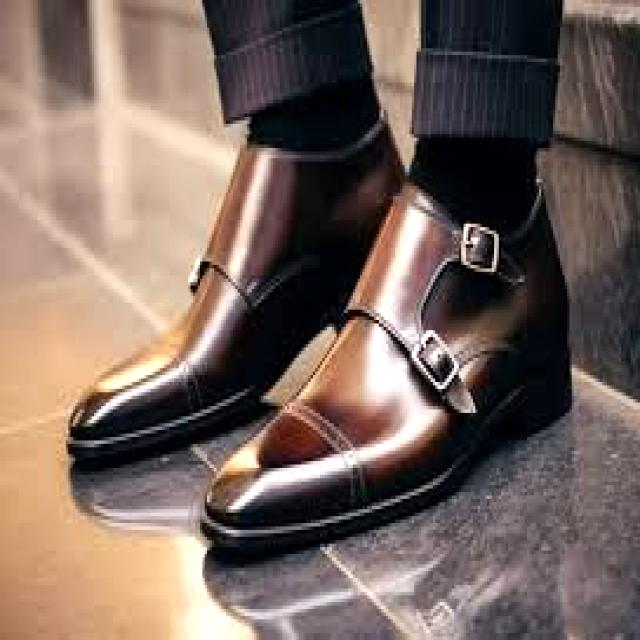foot-wear: (204, 177, 575, 552), (66, 105, 407, 457)
